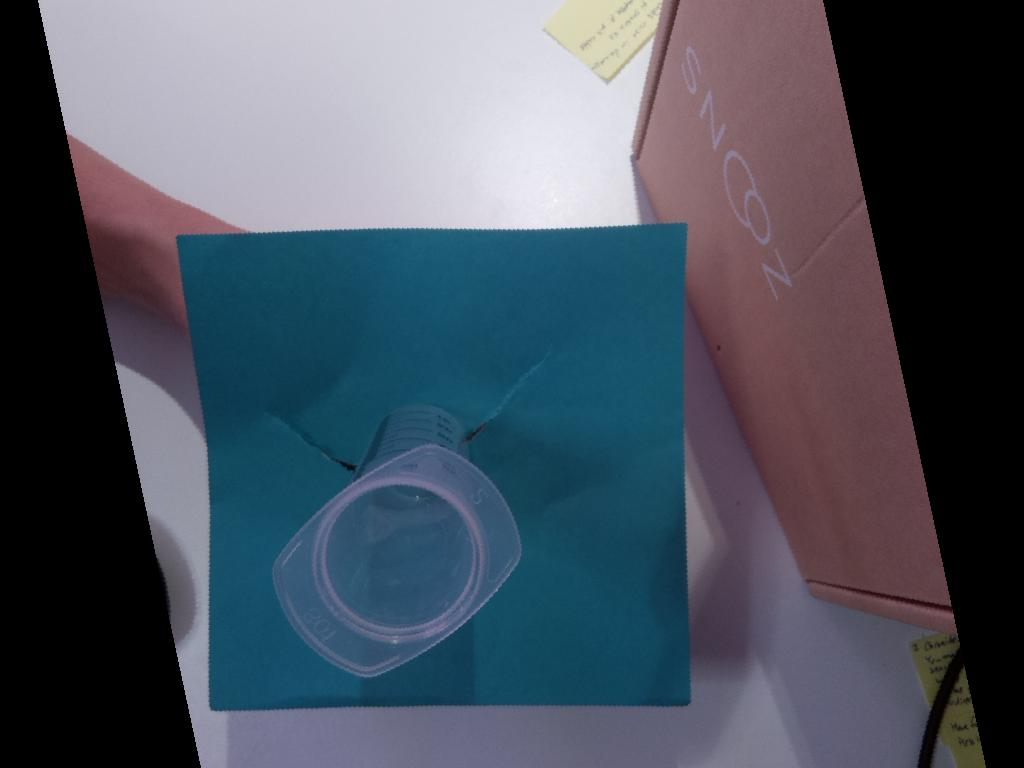clean: (266, 443, 524, 680)
